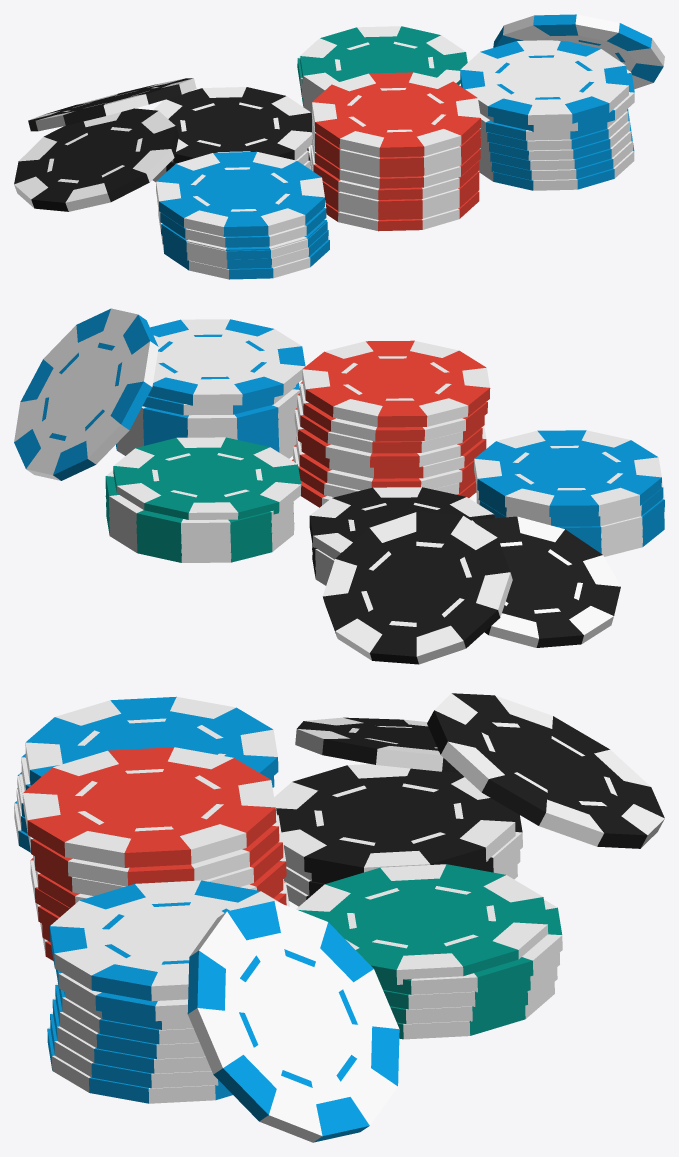
File: poker_chips.glb
3 renders of one model, top to bottom at view 1: azimuth 30°, elevation 25°; view 2: azimuth 150°, elevation 25°; view 3: azimuth 270°, elevation 25°, orthographic. The views are drawn at different scales.
Parts seen in each view (by area): view 1: Node; view 2: Node; view 3: Node.
Boxes of the visible parts, <box> form: Node: <box>14,14,664,279</box>; Node: <box>14,308,664,664</box>; Node: <box>14,693,664,1142</box>.
Bounding box in the file's own units: 2.45 × 0.5 × 1.59.
